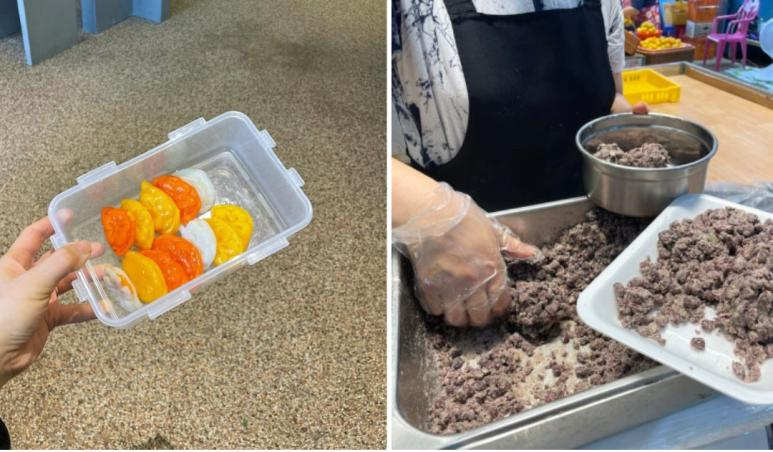Lunch Box: (392, 198, 716, 449), (48, 112, 312, 327), (577, 195, 772, 403), (576, 114, 717, 216)
